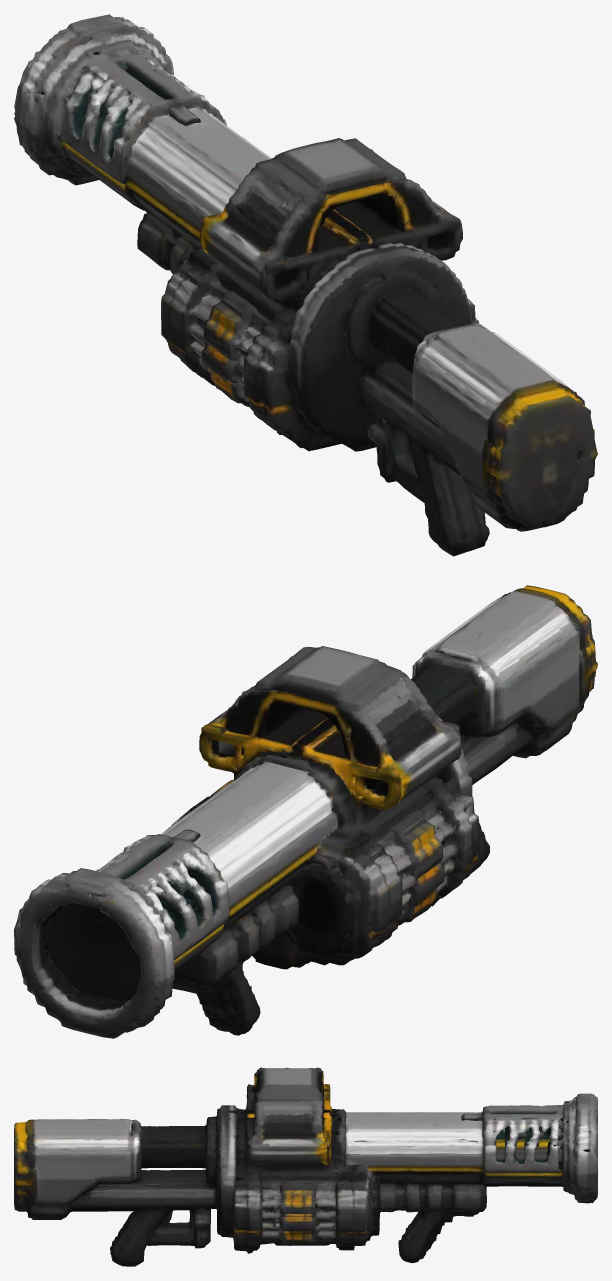
File: LAUNA0_2026-08-07T003640.657.glb
3 renders of one model, top to bottom at view 1: azimuth 30°, elevation 25°; view 2: azimuth 150°, elevation 25°; view 3: azimuth 270°, elevation 25°, orthographic. The views are drawn at different scales.
Visible parts, largest first — view 1: world; view 2: world; view 3: world.
Part boxes in pixels (x1,y1,x2,y2): world: (14, 14, 597, 556); world: (14, 585, 597, 1038); world: (14, 1067, 597, 1266).
Bounding box in the file's own units: 0.2745 × 0.3532 × 1.
Materials: 1 (1 with a texture image).
